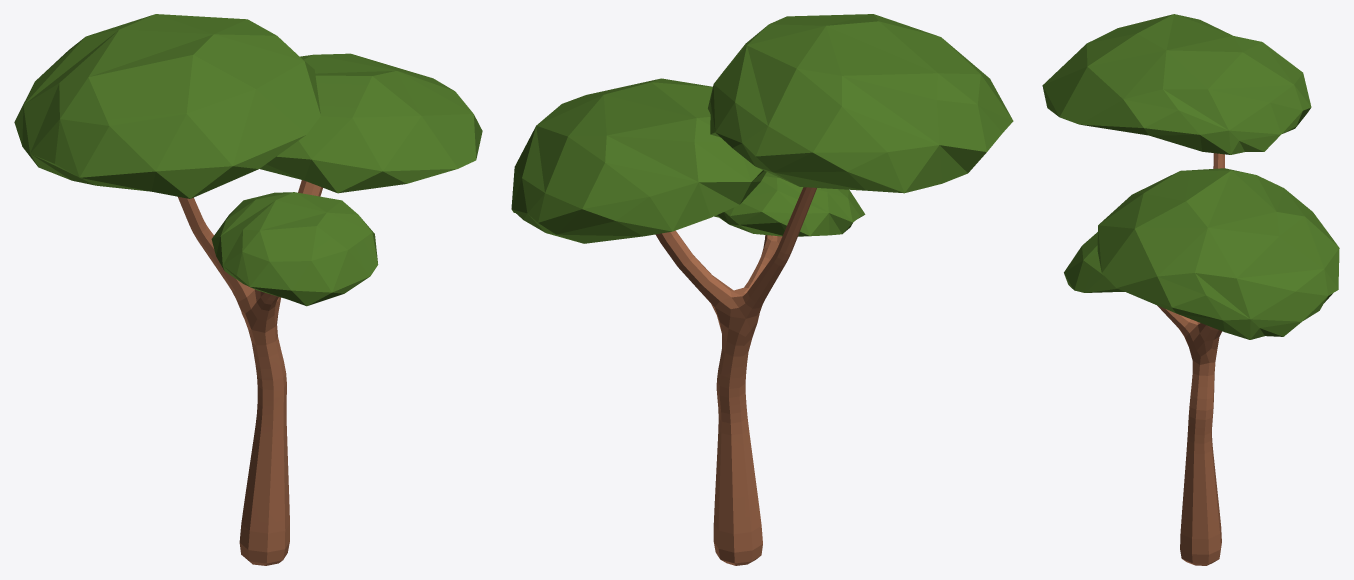
Rendered from -tree6.glb.
The picture shows the model from 3 angles, left to right: view 1: azimuth 30°, elevation 25°; view 2: azimuth 150°, elevation 25°; view 3: azimuth 270°, elevation 25°; orthographic projection. The views are drawn at different scales.
Parts seen in each view (by area): view 1: tree6; view 2: tree6; view 3: tree6.
Part boxes in pixels (x1,y1,x2,y2): tree6: [14, 14, 482, 565]; tree6: [511, 14, 1013, 565]; tree6: [1042, 14, 1339, 565].
Size of the model in its own units: 1.97 by 2.33 by 1.3.
2 materials, 2 textured.
